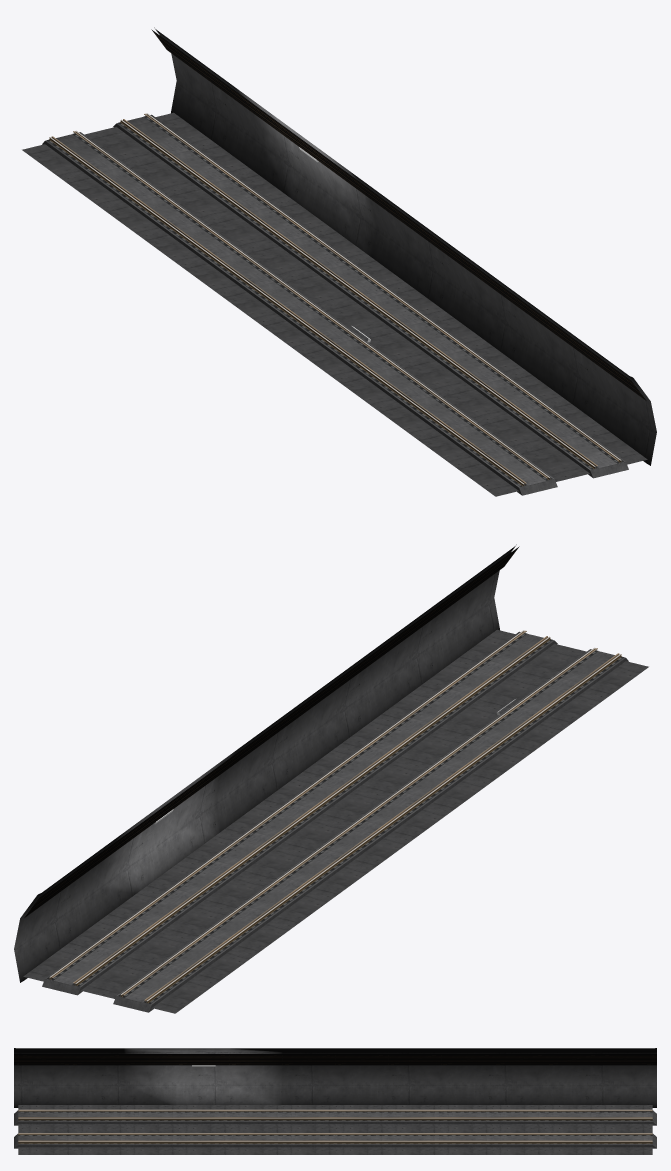
Rendered from 2RAIL_TONNELE.glb.
The picture shows the model from 3 angles, top to bottom: view 1: azimuth 30°, elevation 25°; view 2: azimuth 150°, elevation 25°; view 3: azimuth 270°, elevation 25°; orthographic projection. The views are drawn at different scales.
Parts seen in each view (by area): view 1: R3, obj4, R000_RG_R3, R000_RG_L3; view 2: R3, obj4, R000_RG_R3, R000_RG_L3; view 3: R3, obj4, R000_RG_L3, R000_RG_R3.
Boxes of the visible parts, x1,y1,x2,y2 form: R3: (22, 27, 656, 496); obj4: (151, 29, 646, 400); R000_RG_R3: (51, 119, 597, 484); R000_RG_L3: (73, 113, 618, 478); R3: (14, 544, 648, 1013); obj4: (24, 546, 519, 917); R000_RG_R3: (73, 636, 619, 1001); R000_RG_L3: (51, 630, 597, 996); R3: (14, 1048, 656, 1154); obj4: (14, 1054, 656, 1065); R000_RG_L3: (18, 1117, 652, 1141); R000_RG_R3: (18, 1110, 652, 1134).
Size of the model in its own units: 29.72 by 20.51 by 152.
11 materials, 10 textured.
